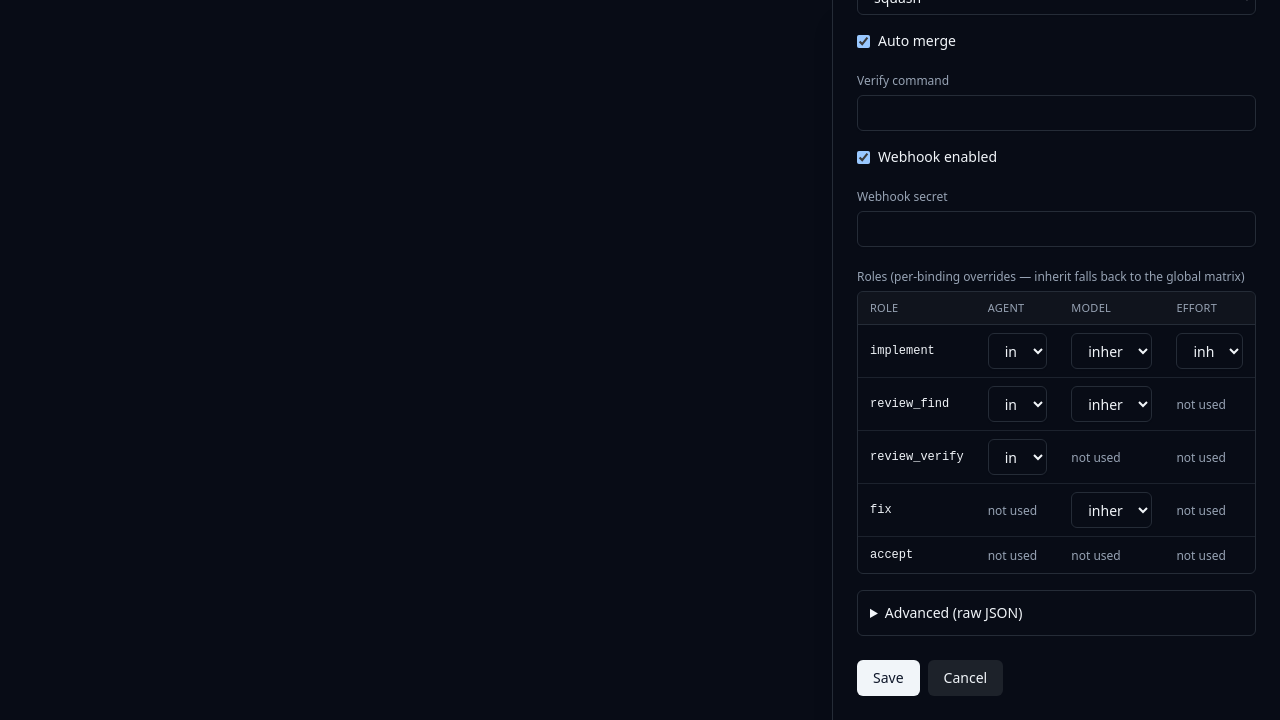
Test: BindingForm › renders a 422 error on a checkbox-only field (auto_merge)
The width and height of the screenshot is (1280, 720).
(page scrolled)
Click the button "Save": (888, 678) [857,660,920,696]
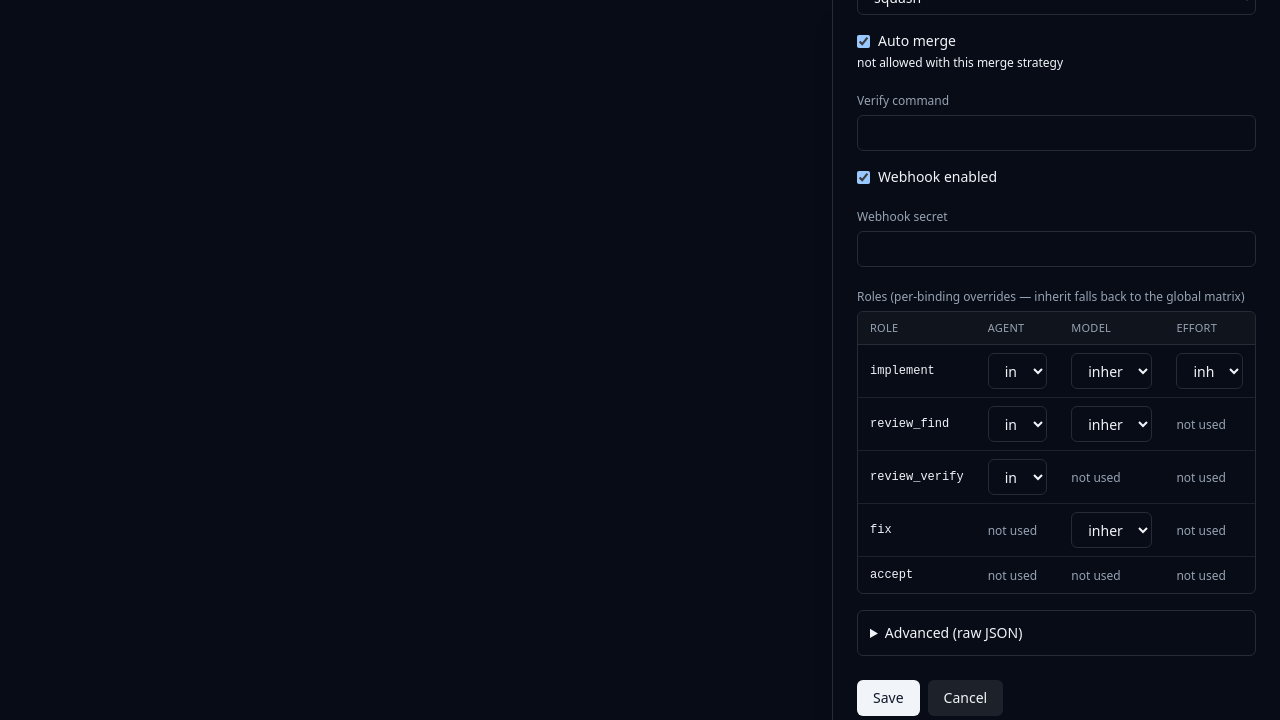
Expected: the text "not allowed with this merge strategy" is shown, [857,54,1063,71]
